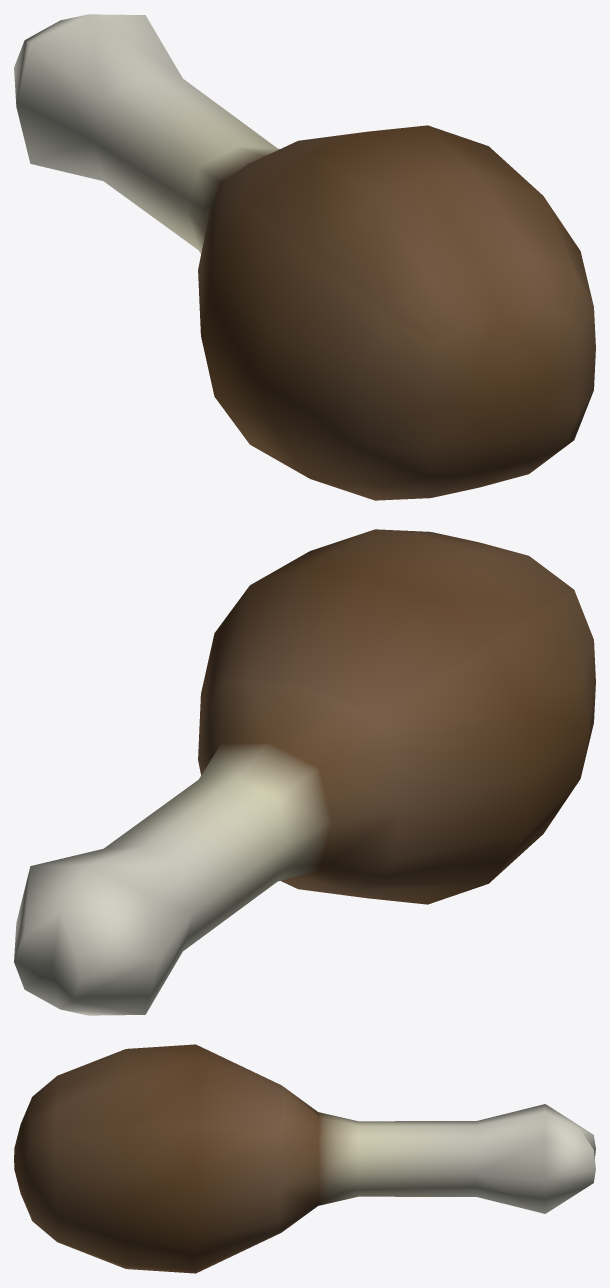
Rendered from DrumStick.glb.
The picture shows the model from 3 angles, top to bottom: view 1: azimuth 30°, elevation 25°; view 2: azimuth 150°, elevation 25°; view 3: azimuth 270°, elevation 25°; orthographic projection. The views are drawn at different scales.
Parts seen in each view (by area): view 1: Drumstick; view 2: Drumstick; view 3: Drumstick.
Part boxes in pixels (x1,y1,x2,y2): Drumstick: (14, 14, 595, 500); Drumstick: (14, 529, 595, 1015); Drumstick: (14, 1044, 595, 1273).
Size of the model in its own units: 0.3879 by 0.358 by 0.9352.
